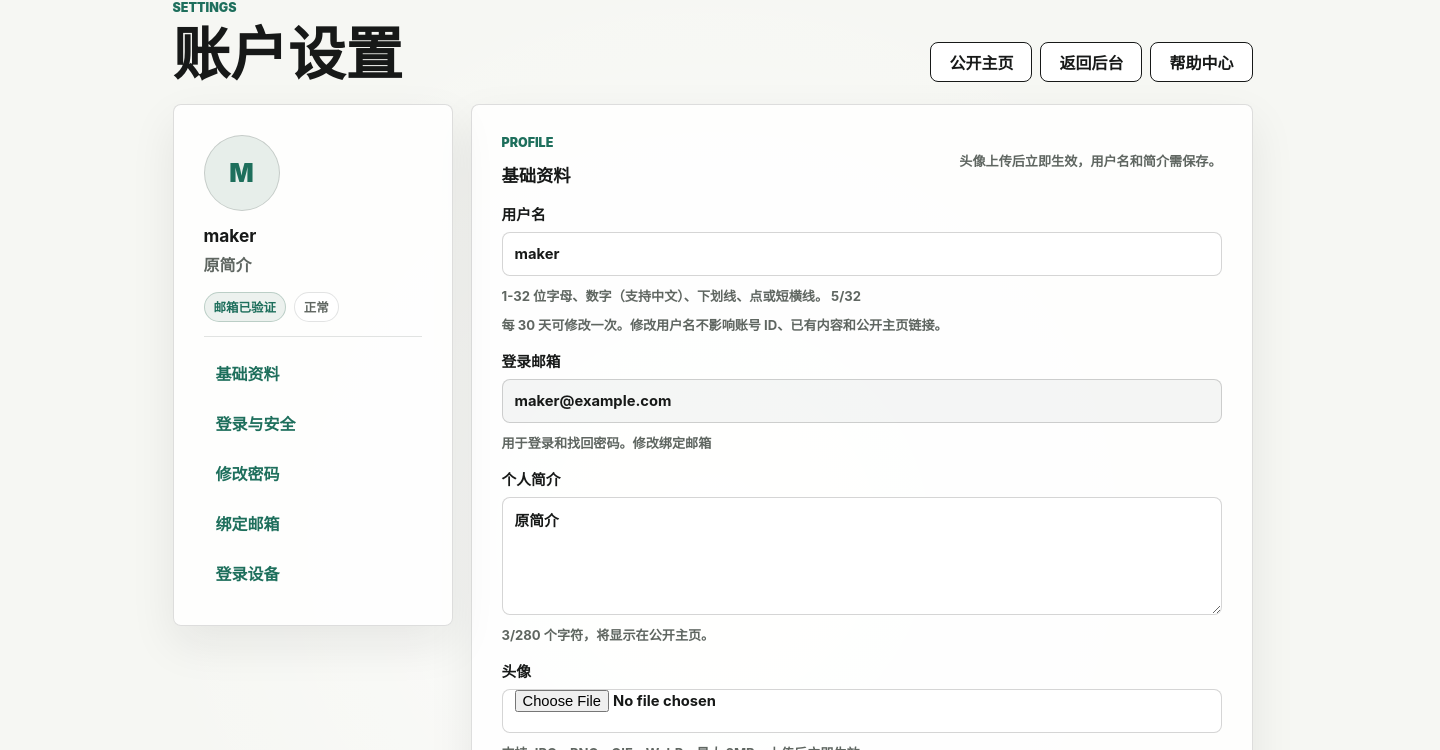
Test: 账号设置操作 › 改名需确认，支持单个中文字符并保存服务端结果
Replace the text in the field labelled "用户名" with "中": (862, 254) [502,232,1222,276]
(page scrolled)
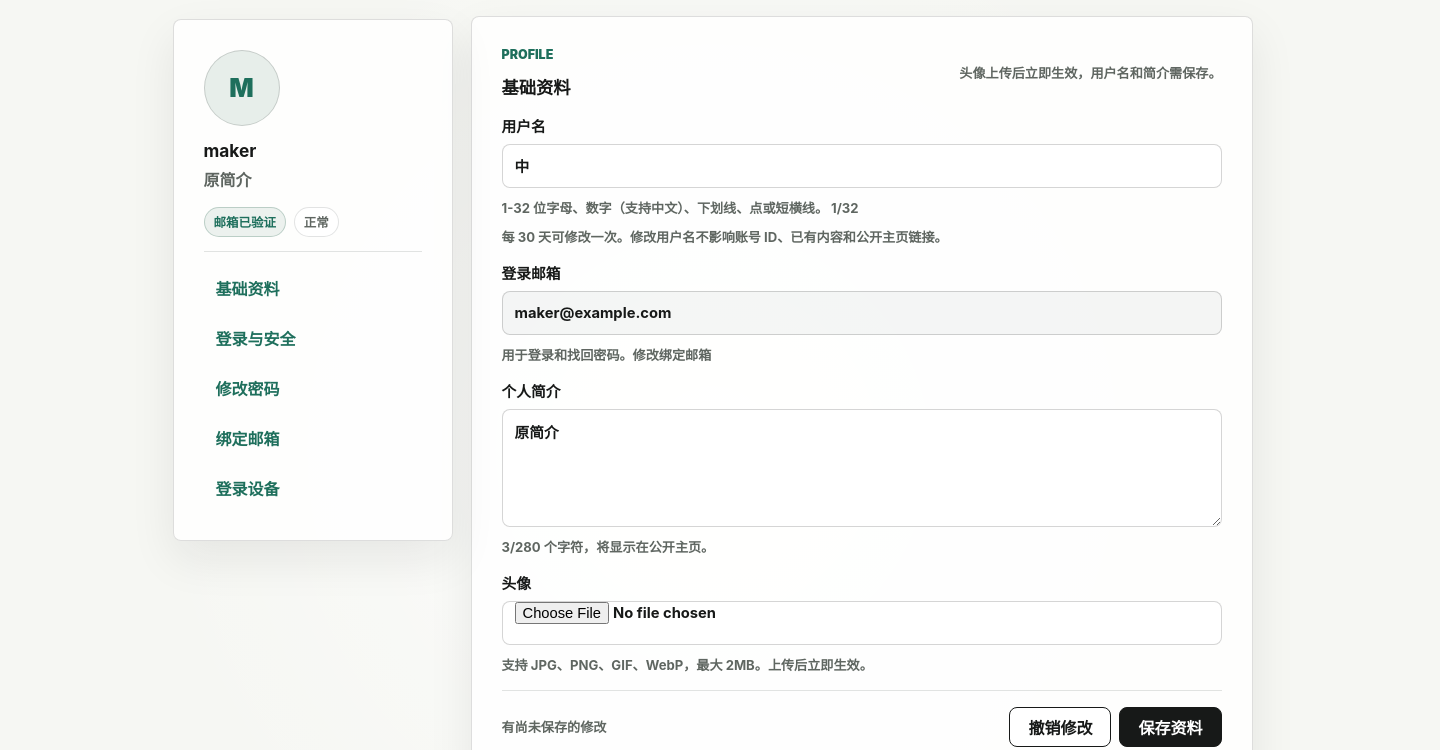
Submit the form with id "settings-profile"
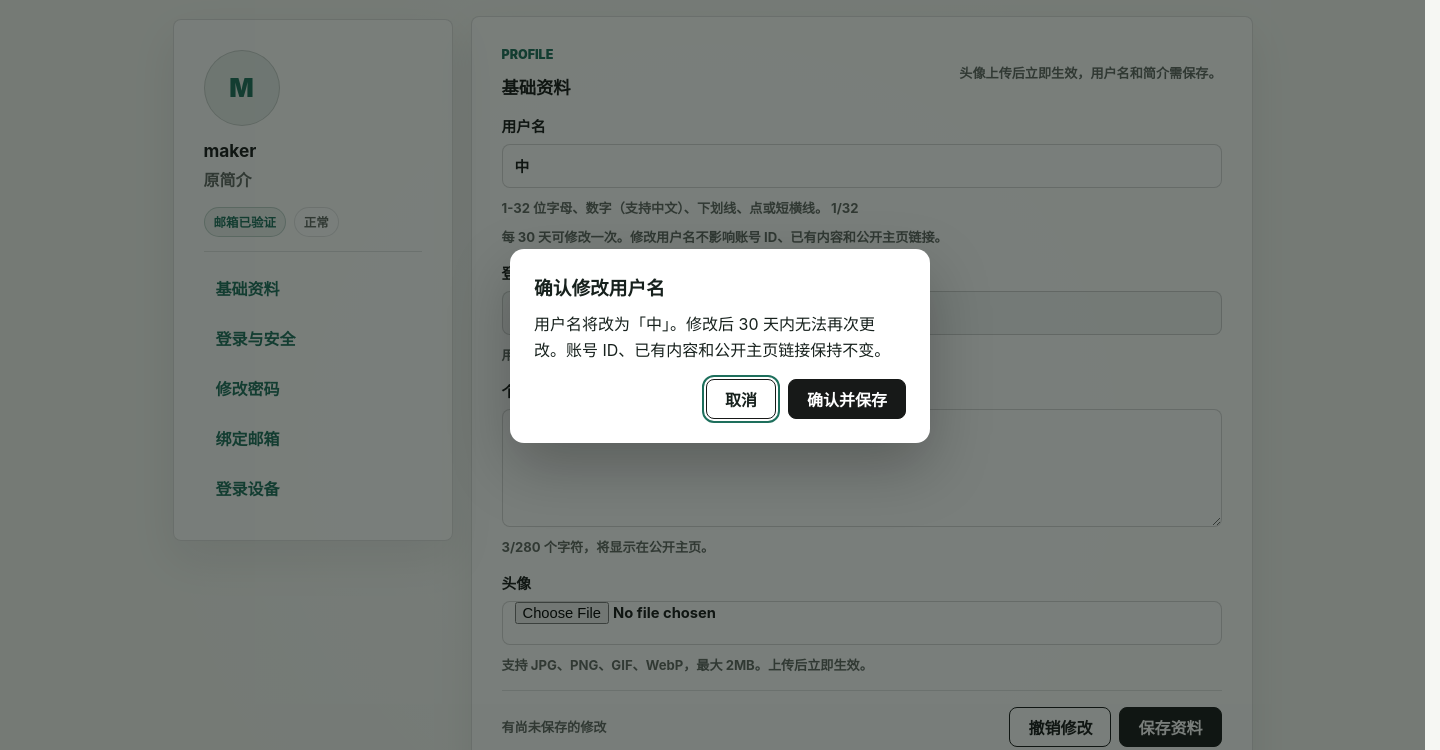
Check: the dialog shows "30 天", box [534,314,890,360]
Click the button "确认并保存": (847, 399) [788,379,906,419]
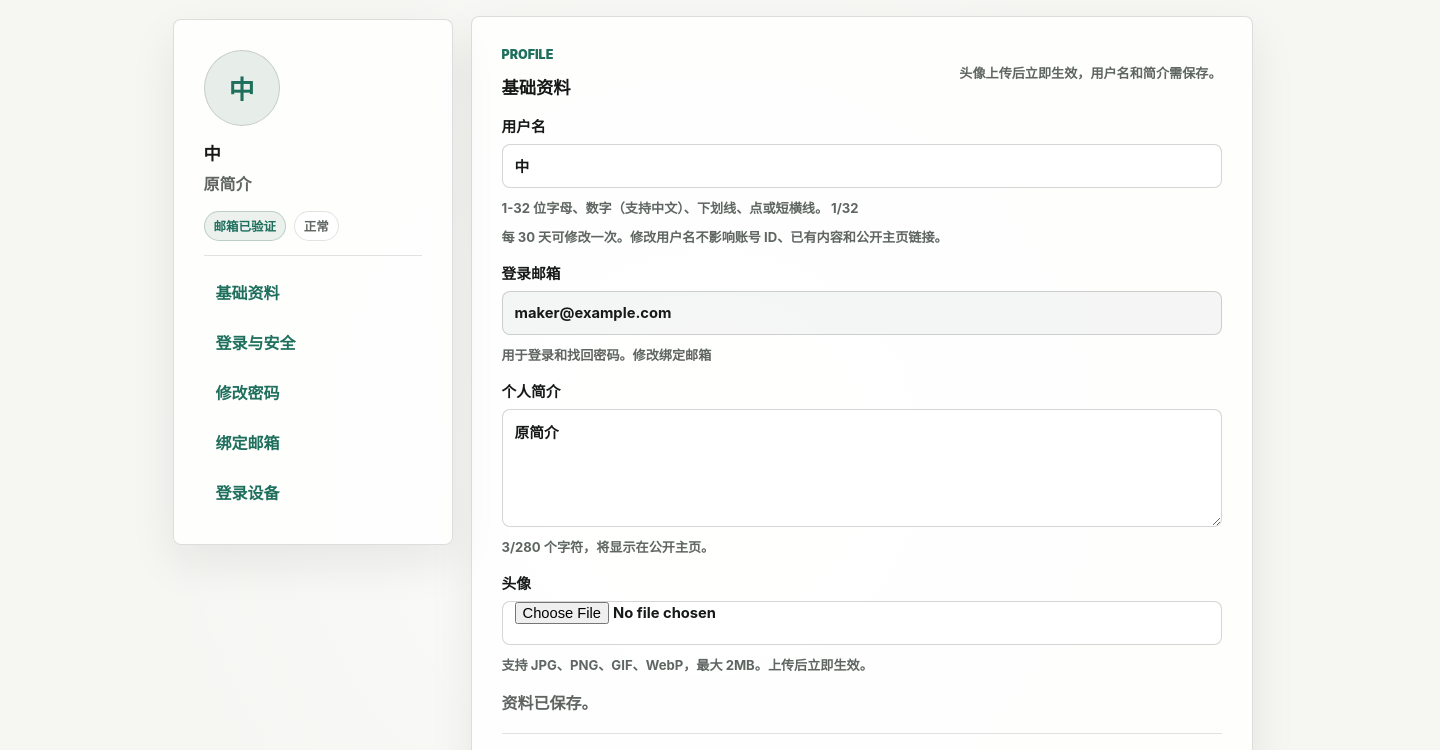
Check: the text "资料已保存" is shown, box [502,693,598,713]
